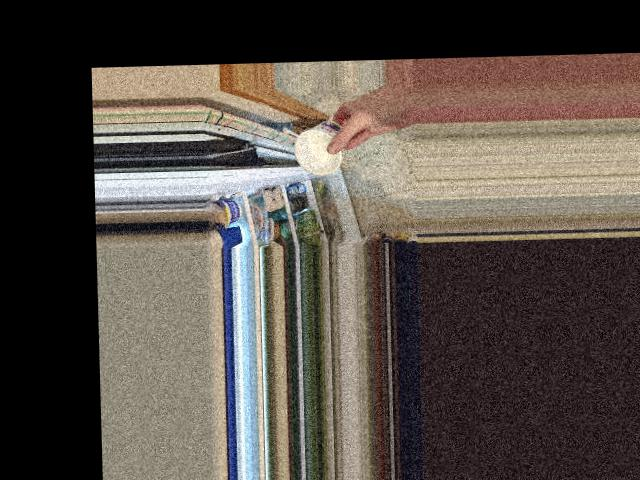cotage: (291, 117, 346, 176)
